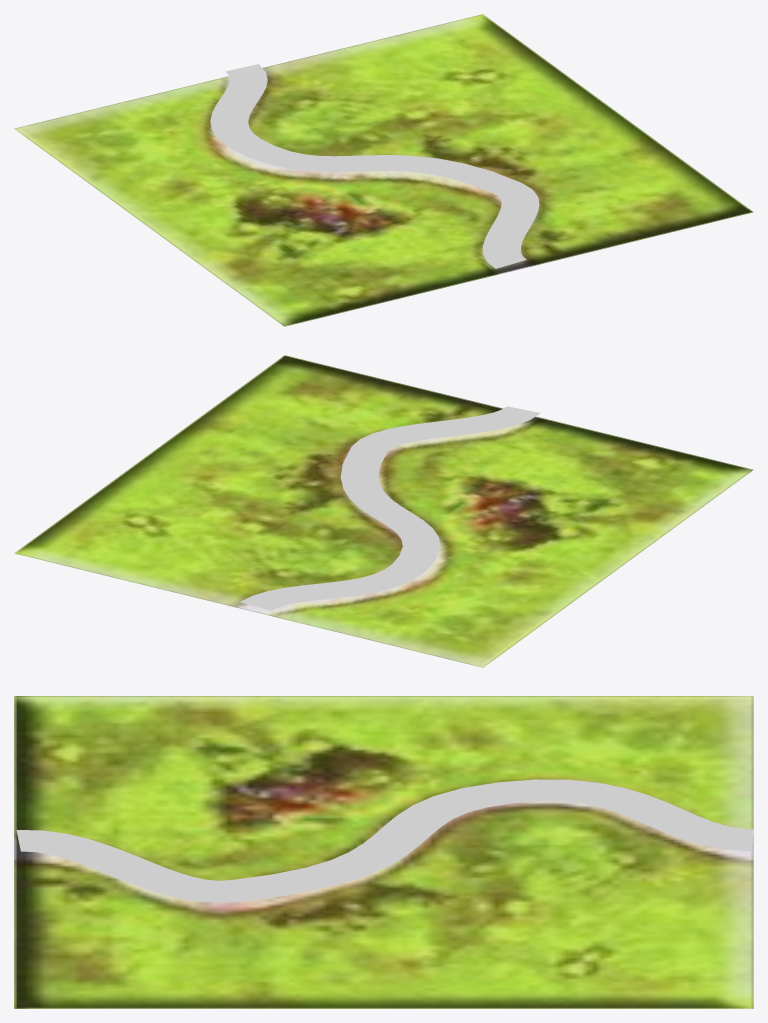
Rendered from tile16.fbx.
The picture shows the model from 3 angles, top to bottom: view 1: azimuth 30°, elevation 25°; view 2: azimuth 150°, elevation 25°; view 3: azimuth 270°, elevation 25°; orthographic projection. The views are drawn at different scales.
Parts seen in each view (by area): view 1: tile16; view 2: tile16; view 3: tile16.
Boxes of the visible parts, <box> form: tile16: <box>14,14,753,326</box>; tile16: <box>14,355,753,667</box>; tile16: <box>14,696,753,1008</box>.
Size of the model in its own units: 100 by 1.12 by 100.
